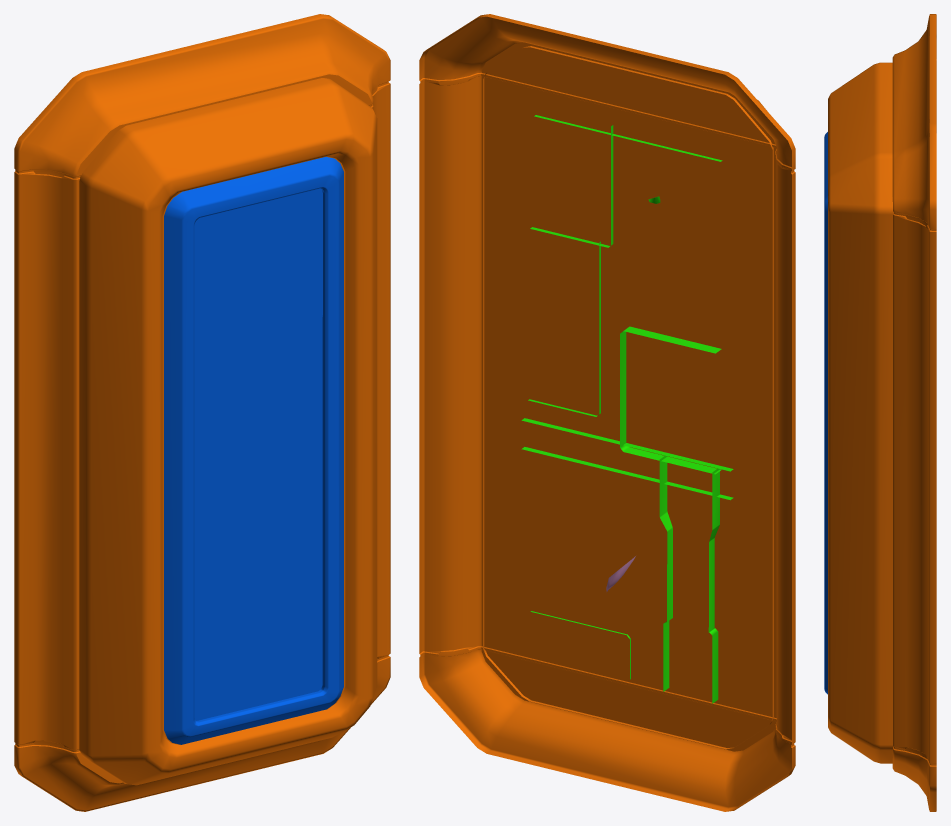
File: Electric_Hatch_Prop.fbx
3 views of the same model, side by side, from view 1: azimuth 30°, elevation 25°; view 2: azimuth 150°, elevation 25°; view 3: azimuth 270°, elevation 25° (orthographic). The views are drawn at different scales.
Visible parts, largest first — view 1: Electric Hatch Prop, Electric Hatch Prop.001; view 2: Electric Hatch Prop, Electric Hatch Prop.002; view 3: Electric Hatch Prop, Electric Hatch Prop.001.
Boxes of the visible parts, x1,y1,x2,y2 form: Electric Hatch Prop: (14,14,390,811); Electric Hatch Prop.001: (164,156,343,744); Electric Hatch Prop: (419,14,795,811); Electric Hatch Prop.002: (521,115,733,703); Electric Hatch Prop: (828,14,936,811); Electric Hatch Prop.001: (824,132,827,694).
Bounding box in the file's own units: 38.65 × 73.09 × 10.83.
